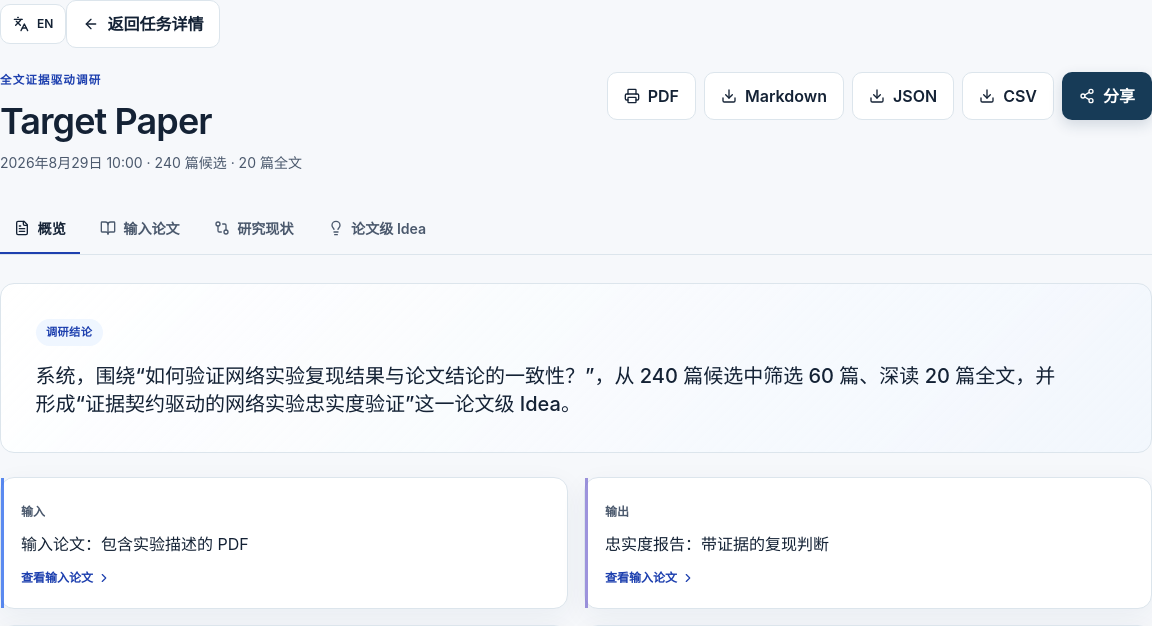
Test: ReportPage › falls back to a real official paper link when an Idea profile has no PDF locator
Expected: the text "调研结论" is shown, x1=36 y1=320 x2=103 y2=346
Click the tab "论文级 Idea" at {"x": 377, "y": 229}, box x1=314 y1=205 x2=440 y2=254
(page scrolled)
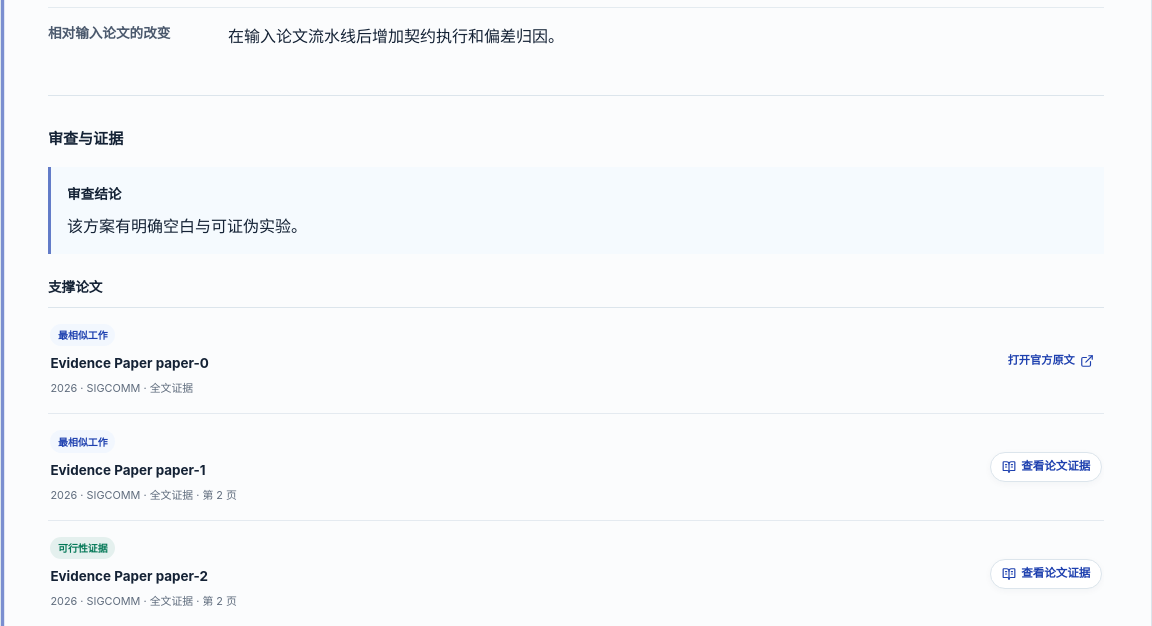
Now the text "Evidence Paper paper-0" is shown, box x1=50 y1=355 x2=209 y2=371
Now the link "打开官方原文" is shown, box x1=1008 y1=353 x2=1094 y2=368
